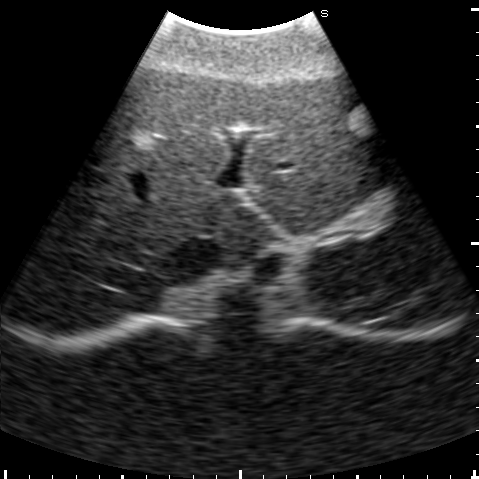IVC: (169, 235, 223, 278)
S1: (211, 195, 278, 263)
S2: (246, 157, 401, 236)
S3: (238, 68, 394, 205)
Tumor: (345, 106, 373, 139)
